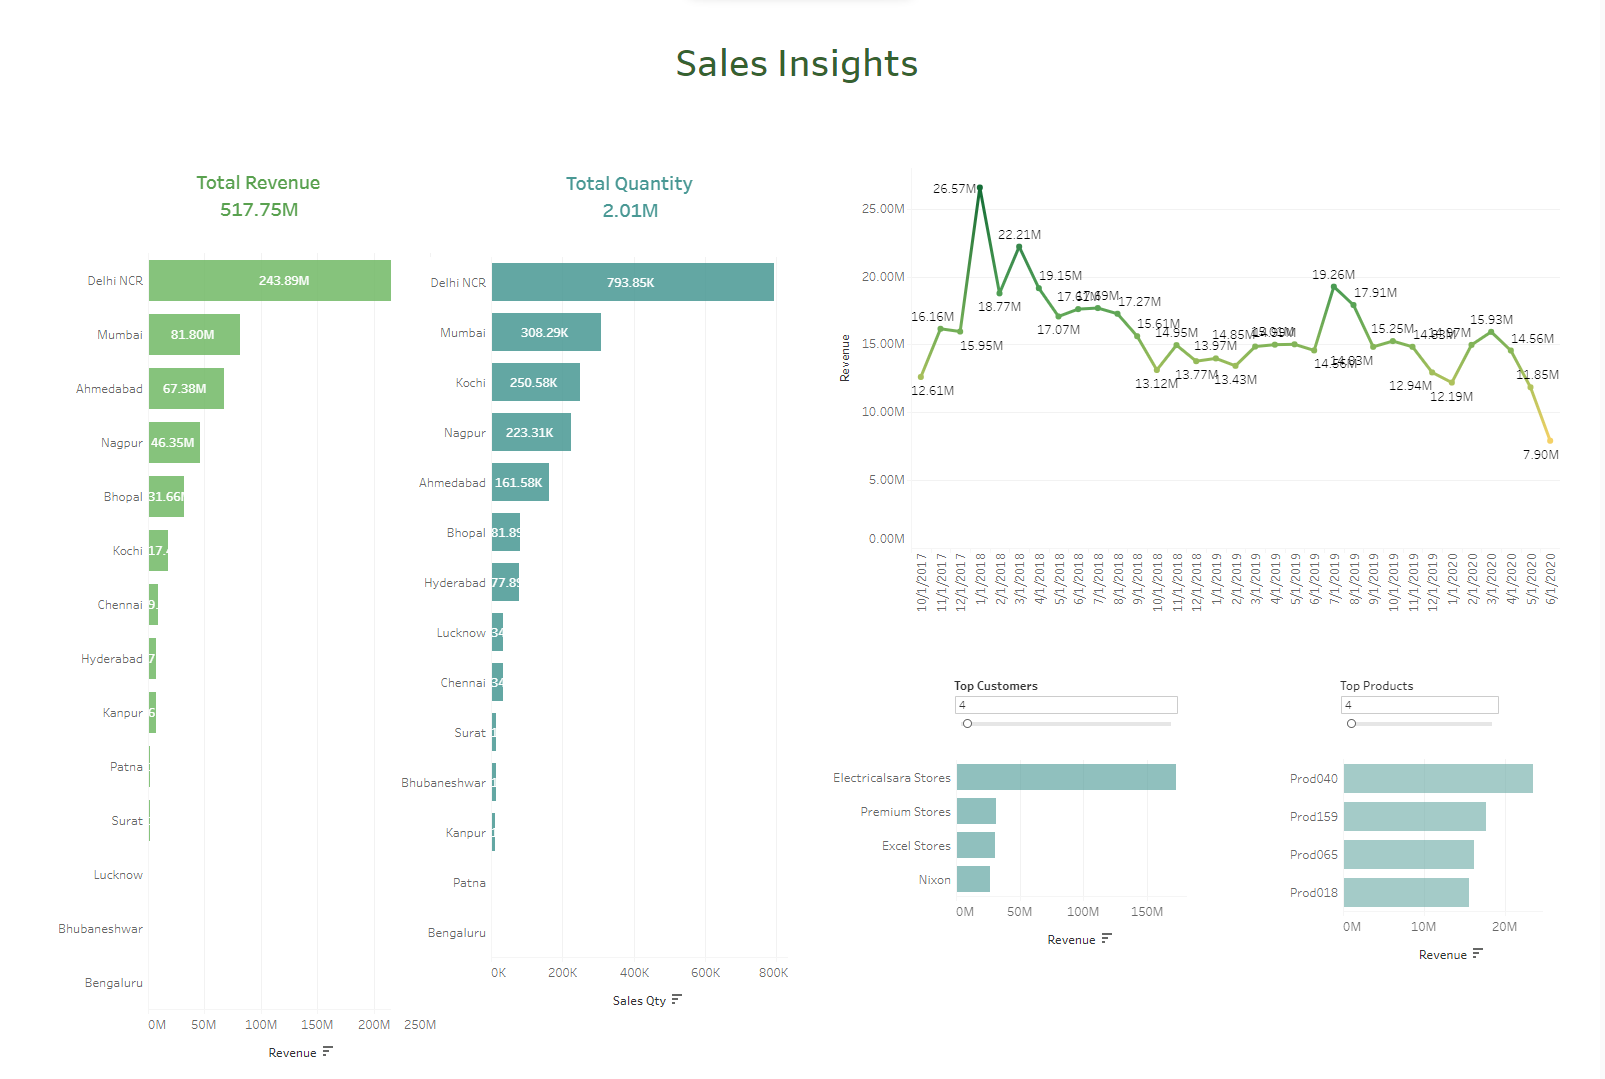

This screenshot's page, from the dashboard's own definition file:
{"tool":"tableau","page":{"name":"Dashboard 1","canvas":[1600,1400],"ordinal":0},"visuals":[{"type":"text","box":[524,7,554,107]},{"type":"worksheet","title":"Total Revenue","mark":"Automatic","box":[190,168,353,184]},{"type":"worksheet","title":"Revenue by Year","mark":"Line","rows":["Normalized Amount"],"cols":["Cy Date"],"box":[829,168,731,460]},{"type":"worksheet","title":"Total Quantity","mark":"Automatic","box":[561,169,319,109]},{"type":"worksheet","title":"Revenue by Market","mark":"Automatic","rows":["Markets Name"],"cols":["Normalized Amount"],"box":[4,253,433,843]},{"type":"worksheet","title":"Quantity by Sales","mark":"Automatic","rows":["Markets Name"],"cols":["Sales Qty"],"box":[391,257,397,819]},{"type":"parameter","param":"[Parameters].[Custmer Name Parameter]","box":[954,676,225,83]},{"type":"parameter","param":"[Parameters].[Product Code Parameter]","box":[1340,676,160,67]},{"type":"worksheet","title":"Top Products","mark":"Automatic","rows":["Product Code"],"cols":["Normalized Amount"],"box":[1191,759,352,225]},{"type":"worksheet","title":"Top Customers","mark":"Automatic","rows":["Custmer Name"],"cols":["Normalized Amount"],"box":[820,760,367,218]},{"type":"text","box":[136,1138,1200,260]}]}

Visuals, with their boxes on the page's 1600x1400 design canvas (x1, y1, x2, y2). These are canvas units, not pixel positions in the 1605x1079 screenshot, which may show the page scaled, cropped or inside an application window:
text: pyautogui.locateOnScreen(524, 7, 1078, 114)
"Total Revenue" worksheet: pyautogui.locateOnScreen(190, 168, 543, 352)
"Revenue by Year" worksheet (Line marks): pyautogui.locateOnScreen(829, 168, 1560, 628)
"Total Quantity" worksheet: pyautogui.locateOnScreen(561, 169, 880, 278)
"Revenue by Market" worksheet: pyautogui.locateOnScreen(4, 253, 437, 1096)
"Quantity by Sales" worksheet: pyautogui.locateOnScreen(391, 257, 788, 1076)
parameter: pyautogui.locateOnScreen(954, 676, 1179, 759)
parameter: pyautogui.locateOnScreen(1340, 676, 1500, 743)
"Top Products" worksheet: pyautogui.locateOnScreen(1191, 759, 1543, 984)
"Top Customers" worksheet: pyautogui.locateOnScreen(820, 760, 1187, 978)
text: pyautogui.locateOnScreen(136, 1138, 1336, 1398)
